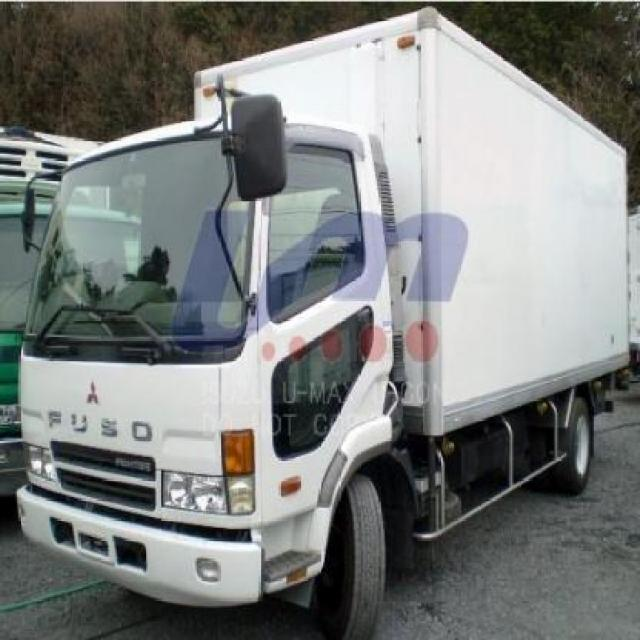truck: (17, 13, 631, 637)
